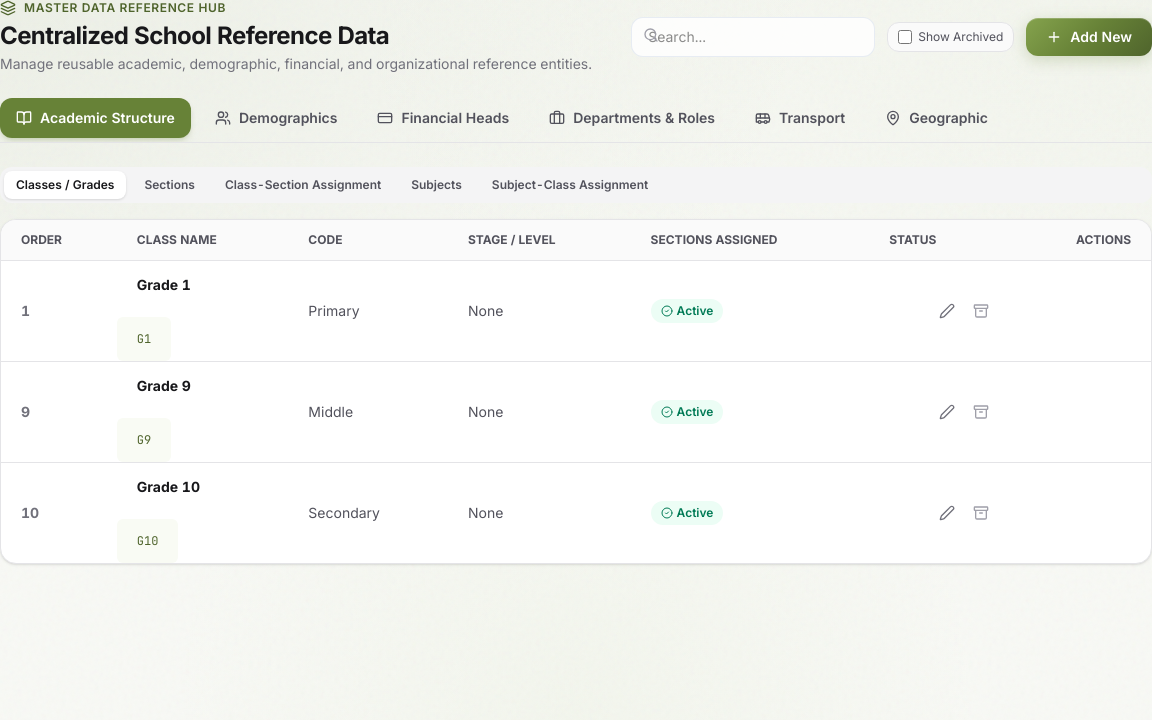
Test: MasterData Search and Filtering Unit Tests › specifically narrows down to Grade 9 when searching "Grade 9" without returning Grade 1 or Grade 10
The width and height of the screenshot is (1152, 720).
Type "Grade 9" into the field with placeholder "Search..." at (753, 37), box [631,17,875,57]
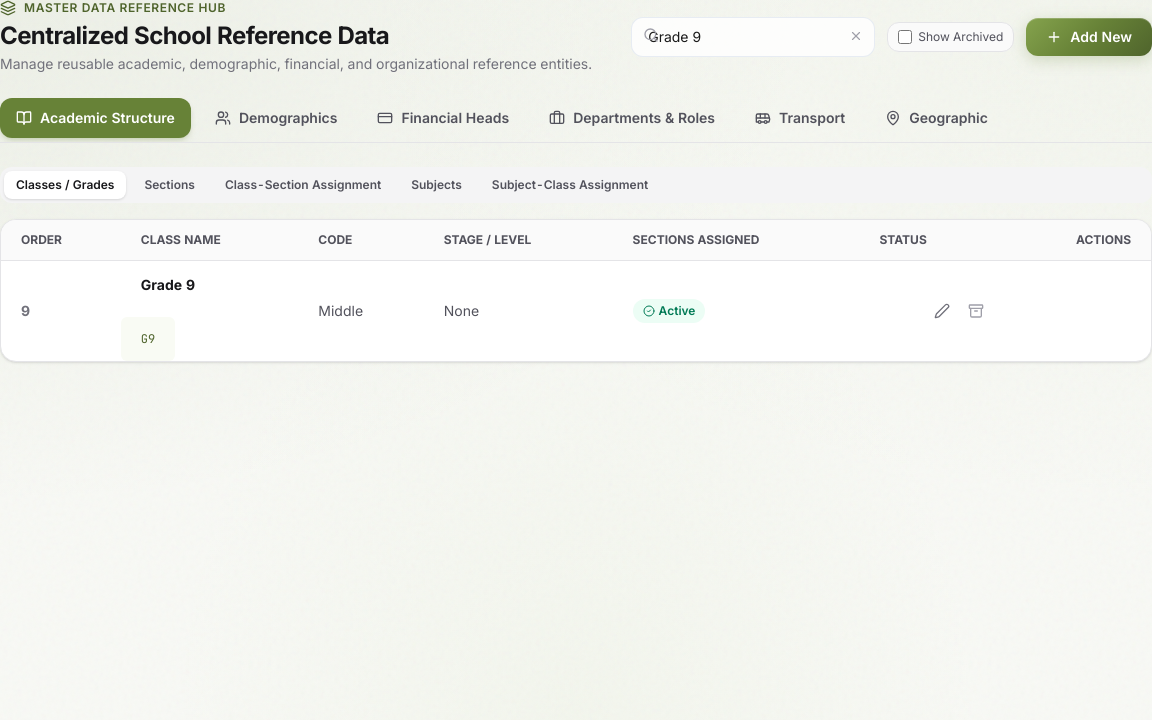
Check: the text "Grade 9" is shown, box [141,275,195,295]
Check: the text "Grade 1" is gone
Check: the text "Grade 10" is gone
